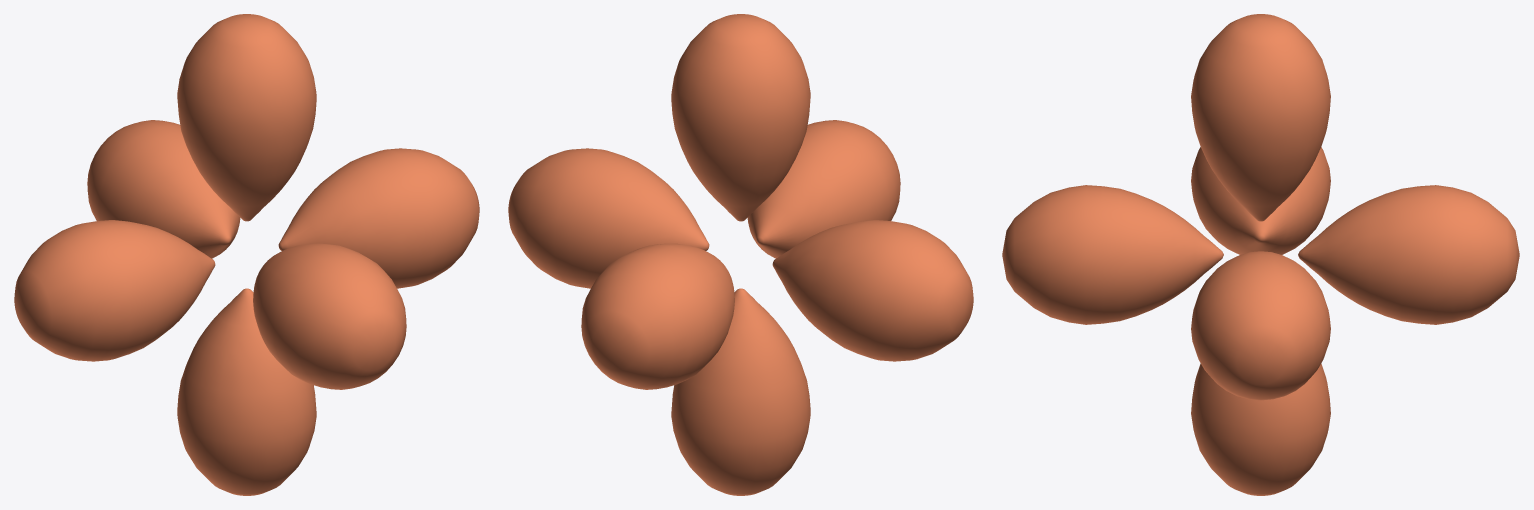
3 views of the same model, side by side, from view 1: azimuth 30°, elevation 25°; view 2: azimuth 150°, elevation 25°; view 3: azimuth 270°, elevation 25° (orthographic).
Parts seen in each view (by area): view 1: orbital 4, orbital 3, orbital 5, orbital 2, orbital 6, orbital 1; view 2: orbital 4, orbital 3, orbital 5, orbital 2, orbital 1, orbital 6; view 3: orbital 6, orbital 1, orbital 4, orbital 2, orbital 5, orbital 3.
Boxes of the visible parts, box(x1,y1,x2,y2) form: orbital 4: box(177, 14, 316, 221); orbital 3: box(14, 220, 215, 361); orbital 5: box(177, 288, 316, 495); orbital 2: box(278, 148, 479, 288); orbital 6: box(253, 243, 406, 389); orbital 1: box(87, 120, 240, 258); orbital 4: box(671, 14, 810, 221); orbital 3: box(772, 220, 973, 361); orbital 5: box(671, 288, 810, 495); orbital 2: box(508, 148, 709, 288); orbital 1: box(581, 243, 734, 389); orbital 6: box(747, 120, 900, 258); orbital 6: box(1002, 185, 1223, 324); orbital 1: box(1298, 185, 1519, 324); orbital 4: box(1191, 14, 1330, 221); orbital 2: box(1191, 251, 1330, 400); orbital 5: box(1191, 363, 1330, 495); orbital 3: box(1191, 147, 1330, 254).
Bounding box in the file's own units: 2.96 × 2.96 × 2.96.
